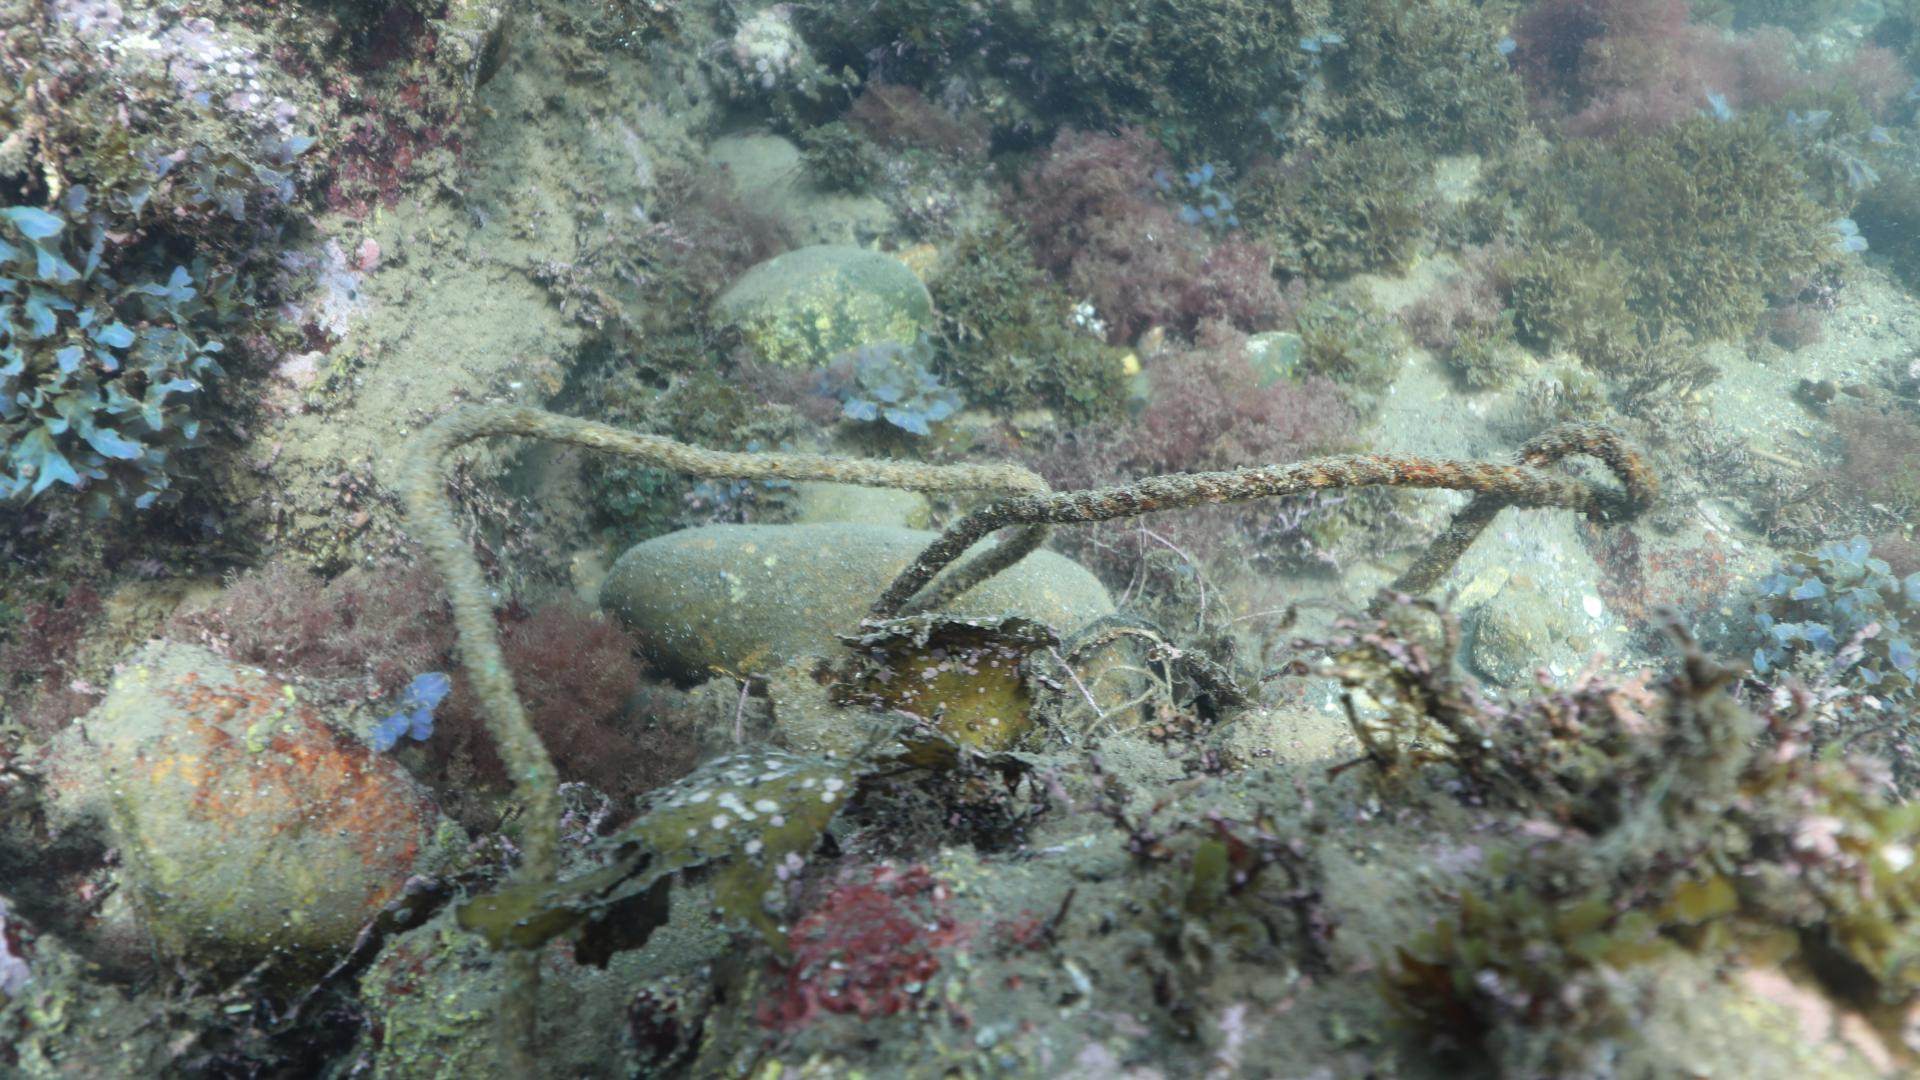rope: (394, 404, 1062, 887), (858, 418, 1658, 618)
